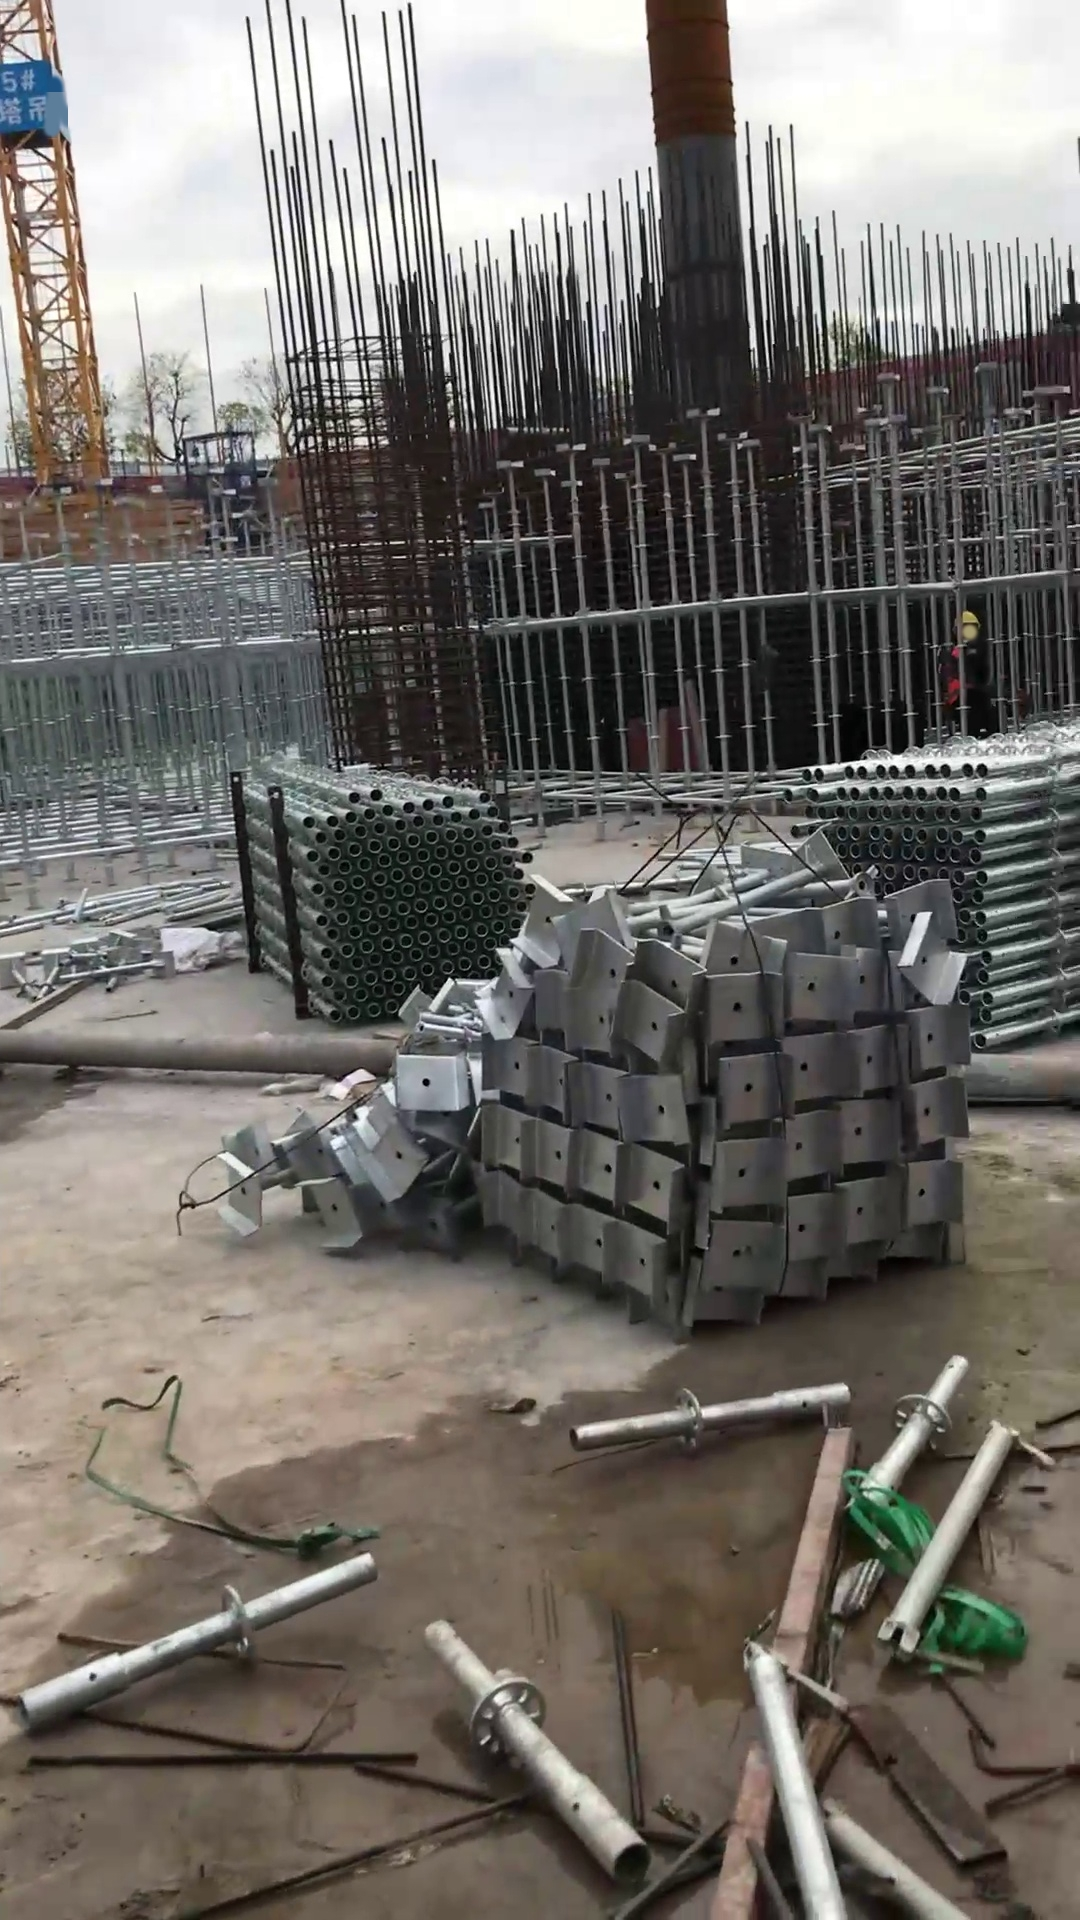helmet: (950, 605, 981, 629)
person: (940, 602, 999, 737)
scaffold: (787, 722, 1080, 1050), (237, 761, 539, 1022)
slogan: (1, 61, 64, 130)
vest: (943, 642, 976, 709)
